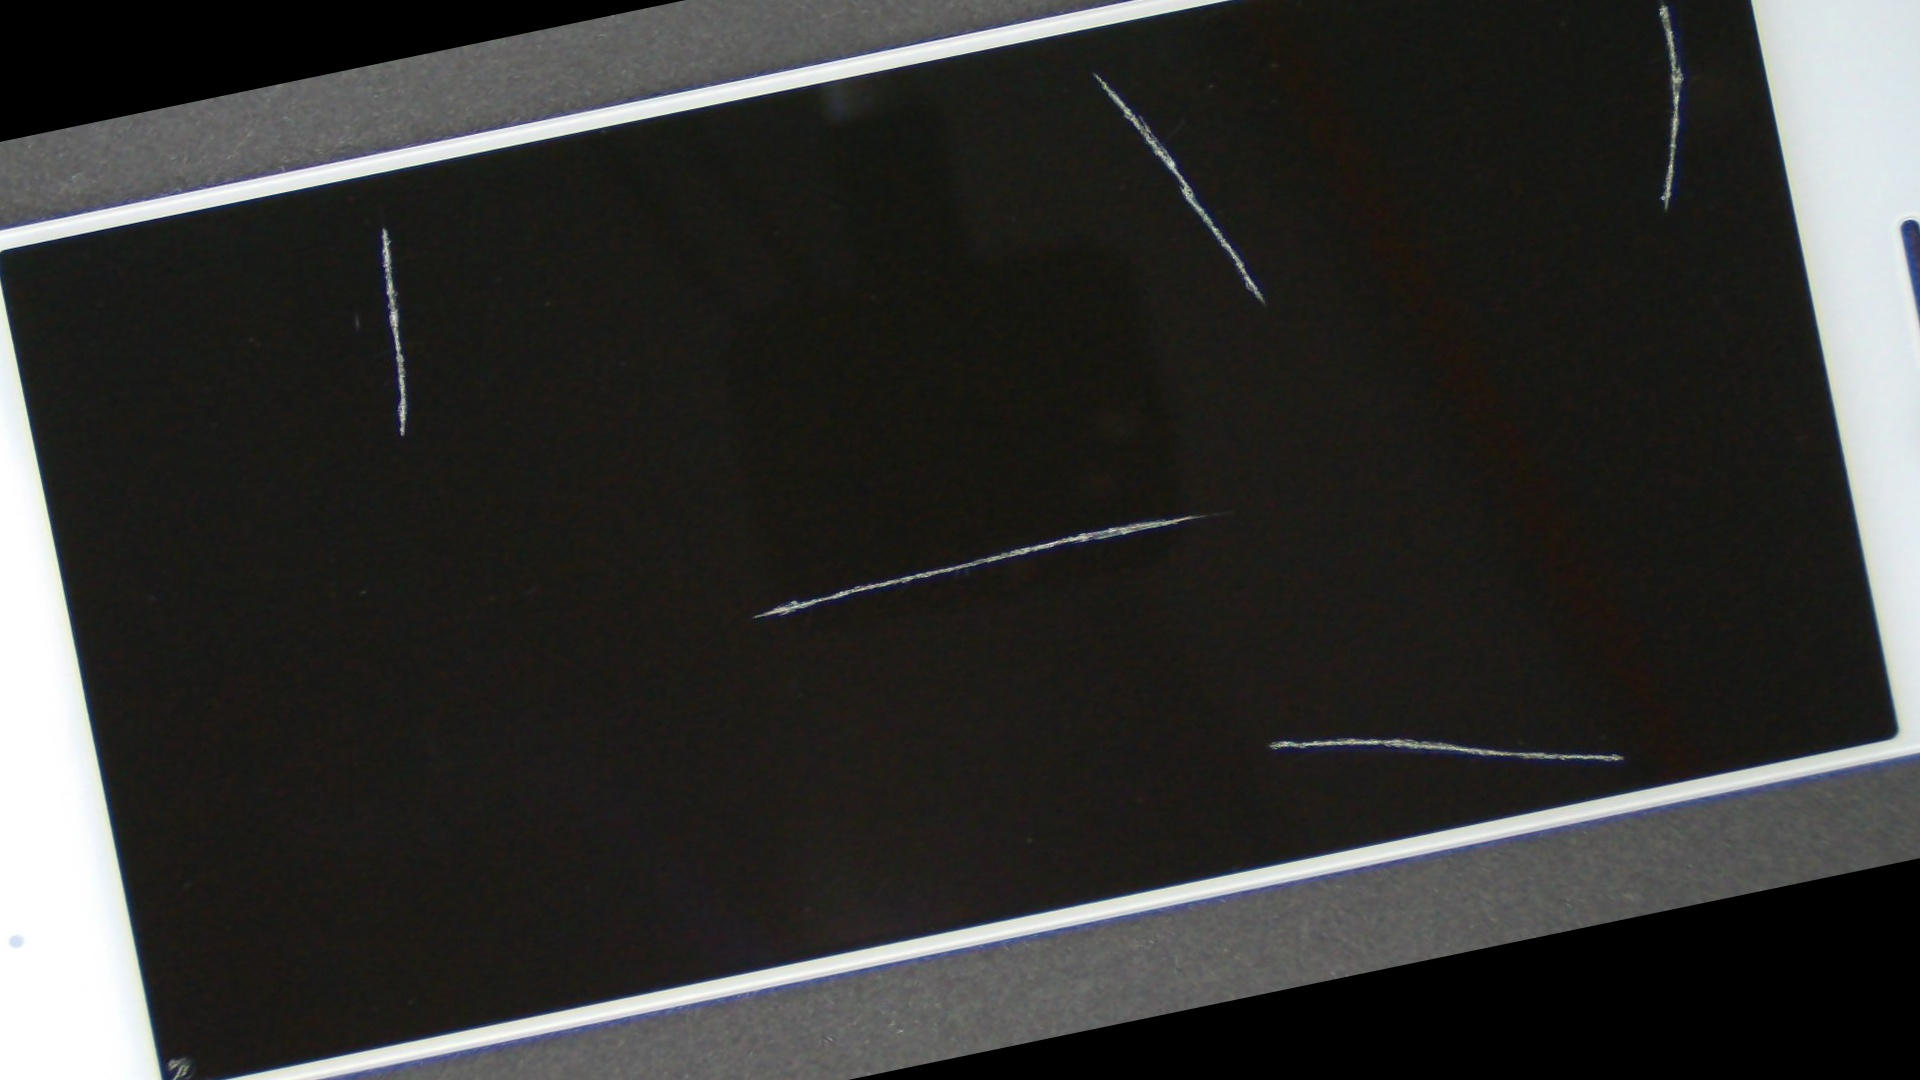oil: (506, 187, 1920, 1080), (411, 112, 1750, 955), (415, 0, 1767, 285), (700, 0, 1920, 285), (62, 86, 704, 371), (0, 575, 323, 1080)
